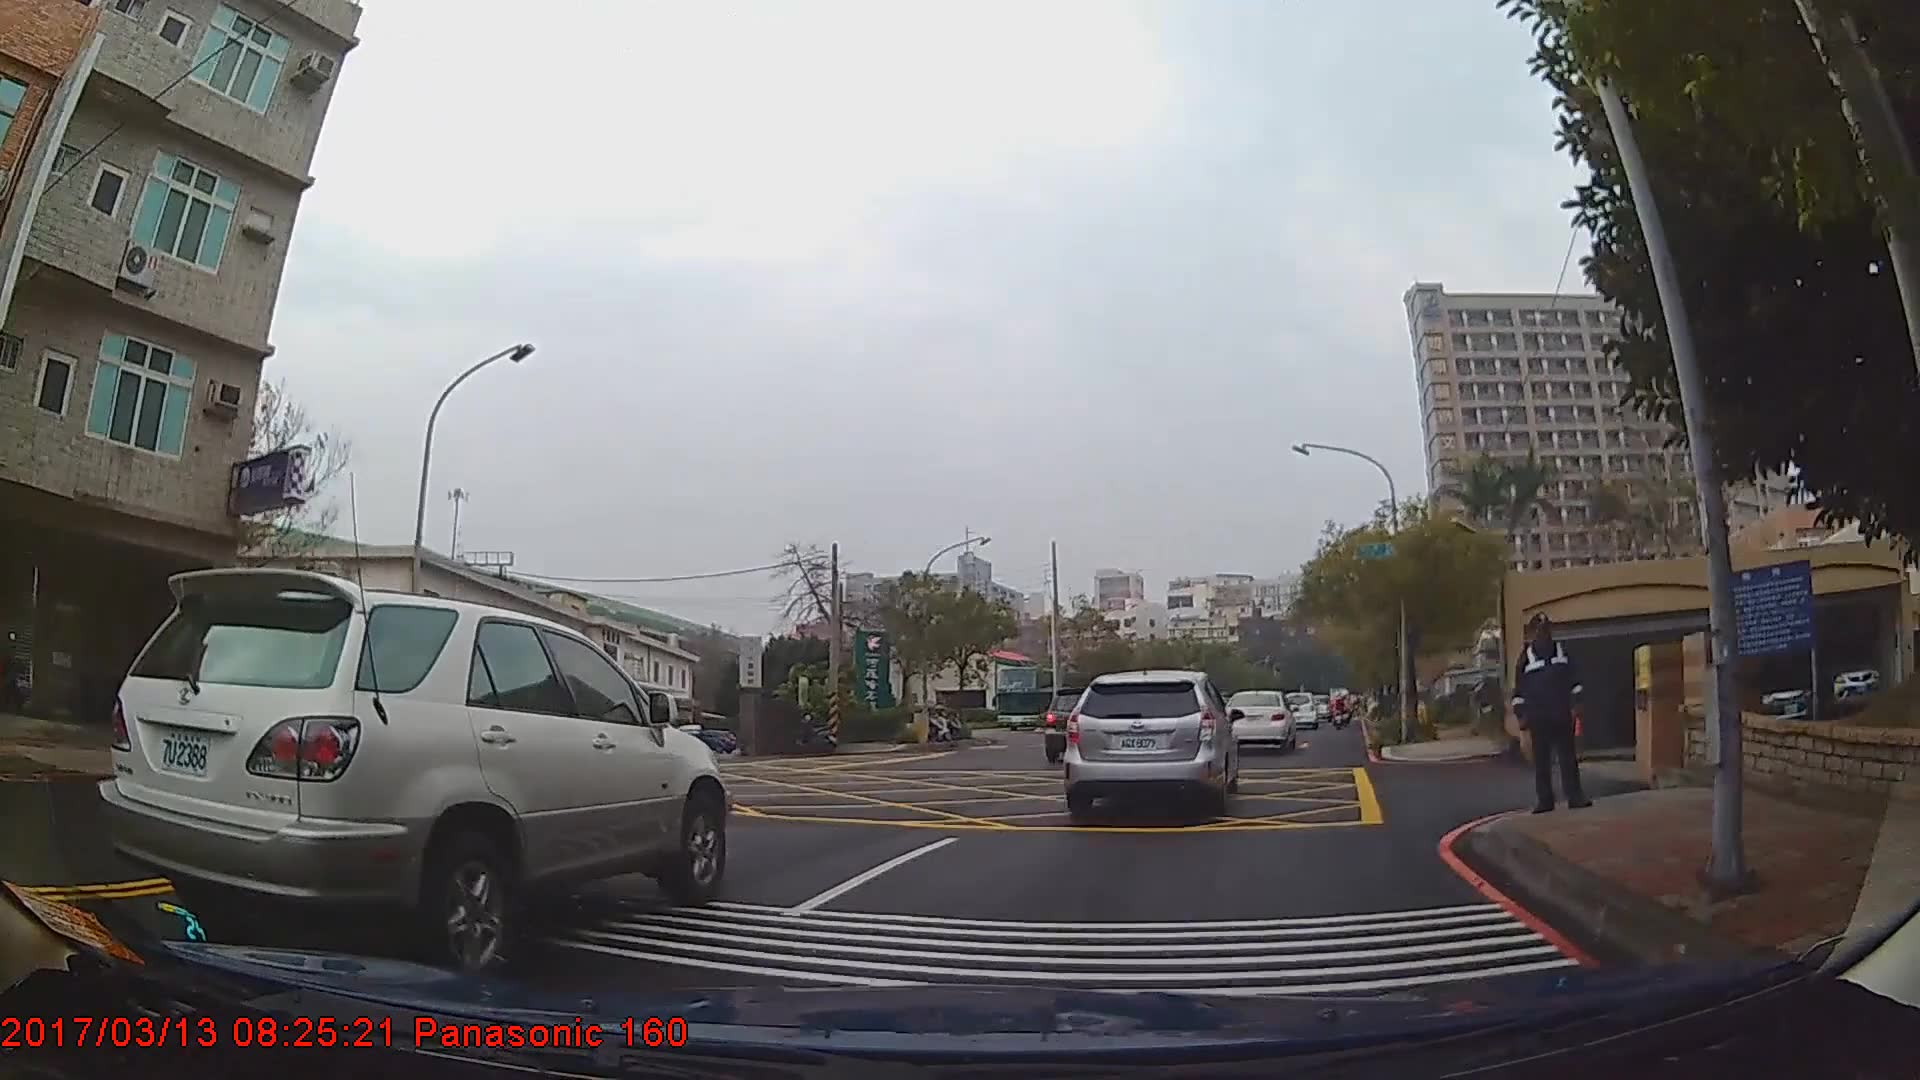pedestrian: (1513, 607, 1590, 812)
vehicle: (93, 558, 726, 974), (1064, 663, 1238, 812), (1220, 688, 1297, 753), (1282, 686, 1319, 726)
